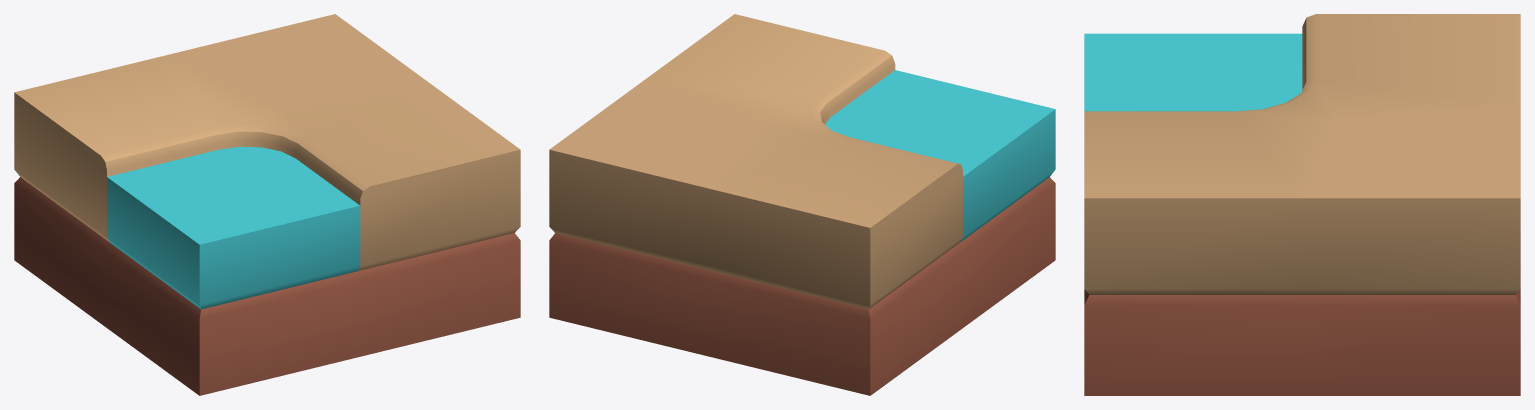
File: square_sand_waterInnerCorner.glb
3 views of the same model, side by side, from view 1: azimuth 30°, elevation 25°; view 2: azimuth 150°, elevation 25°; view 3: azimuth 270°, elevation 25° (orthographic). The views are drawn at different scales.
Parts seen in each view (by area): view 1: square_sand_waterInnerCorner; view 2: square_sand_waterInnerCorner; view 3: square_sand_waterInnerCorner.
Boxes of the visible parts, x1,y1,x2,y2 form: square_sand_waterInnerCorner: (14, 14, 520, 395); square_sand_waterInnerCorner: (549, 14, 1055, 395); square_sand_waterInnerCorner: (1084, 14, 1520, 395).
Size of the model in its own units: 2 by 1 by 2.
